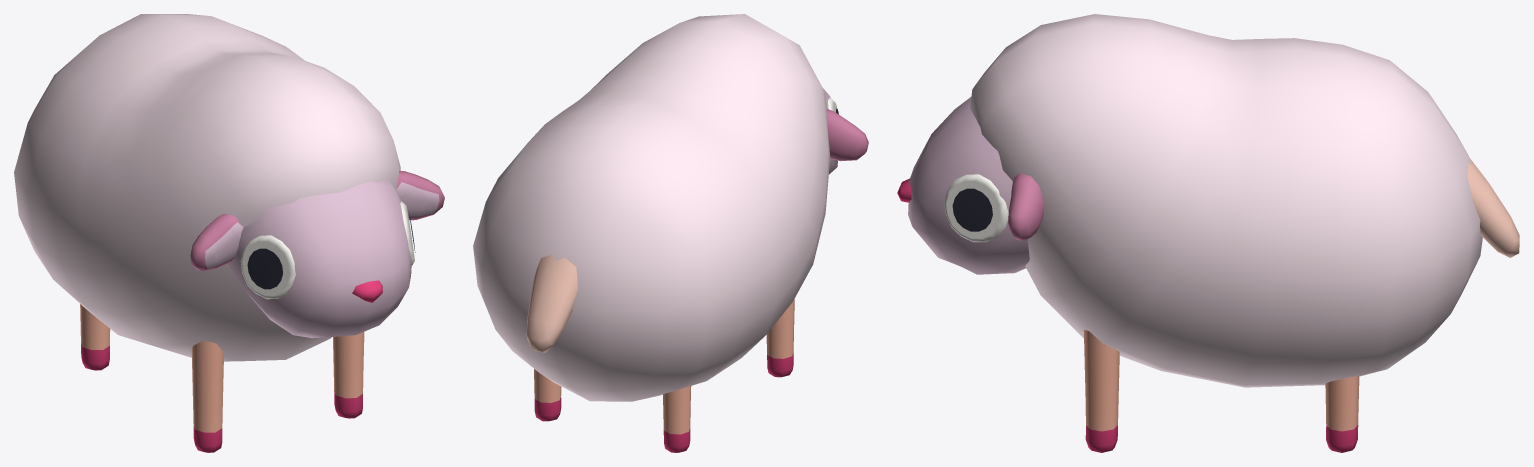
The model's file is Sheep_Animations.gltf.
3 views of the same model, side by side, from view 1: azimuth 30°, elevation 25°; view 2: azimuth 150°, elevation 25°; view 3: azimuth 270°, elevation 25° (orthographic). The views are drawn at different scales.
Parts seen in each view (by area): view 1: Mesh; view 2: Mesh; view 3: Mesh.
Part boxes in pixels (box(x1,y1,x2,y2)): Mesh: box(14, 14, 444, 452); Mesh: box(473, 14, 868, 452); Mesh: box(897, 14, 1519, 452).
Size of the model in its own units: 65.97 by 79.56 by 114.
1 material, 1 textured.
